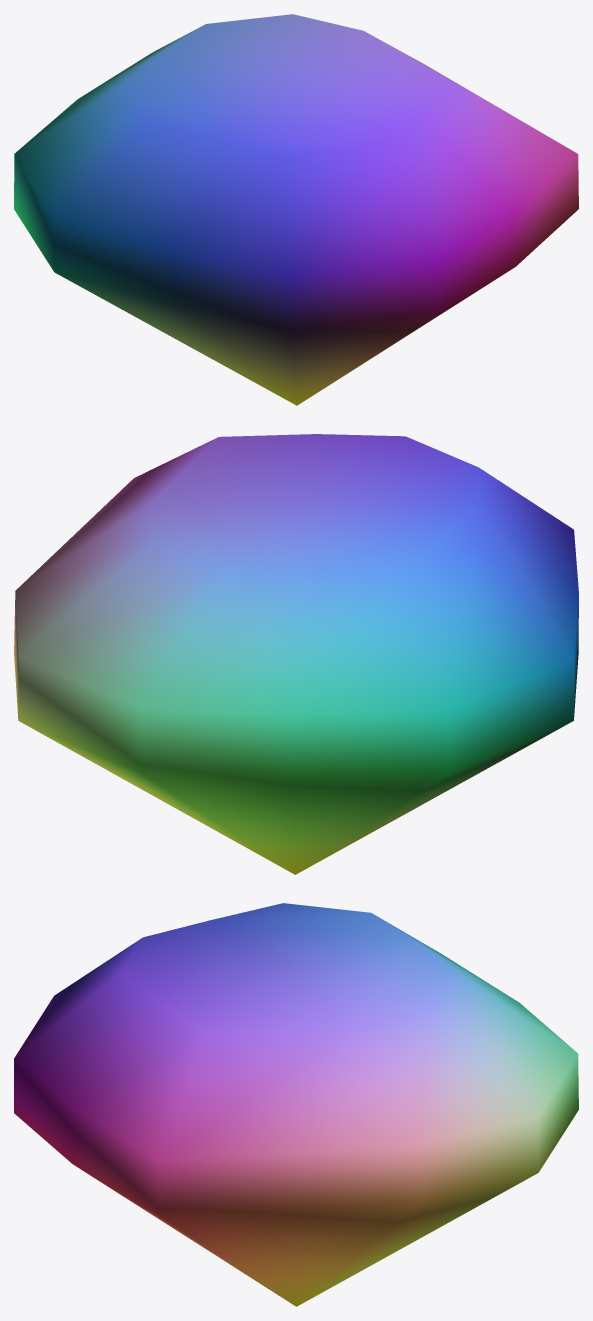
File: SM_Pickup_Gem_Diamond_1.fbx
3 views of the same model, one above another, from view 1: azimuth 30°, elevation 25°; view 2: azimuth 150°, elevation 25°; view 3: azimuth 270°, elevation 25° (orthographic). The views are drawn at different scales.
Visible parts, largest first — view 1: SM_Pickup_Gem_Diamond_1; view 2: SM_Pickup_Gem_Diamond_1; view 3: SM_Pickup_Gem_Diamond_1.
Boxes of the visible parts, bbox=[...] form: SM_Pickup_Gem_Diamond_1: bbox=[14, 14, 578, 405]; SM_Pickup_Gem_Diamond_1: bbox=[14, 434, 578, 874]; SM_Pickup_Gem_Diamond_1: bbox=[14, 903, 578, 1306].
Bounding box in the file's own units: 0.1533 × 0.1051 × 0.1637.
